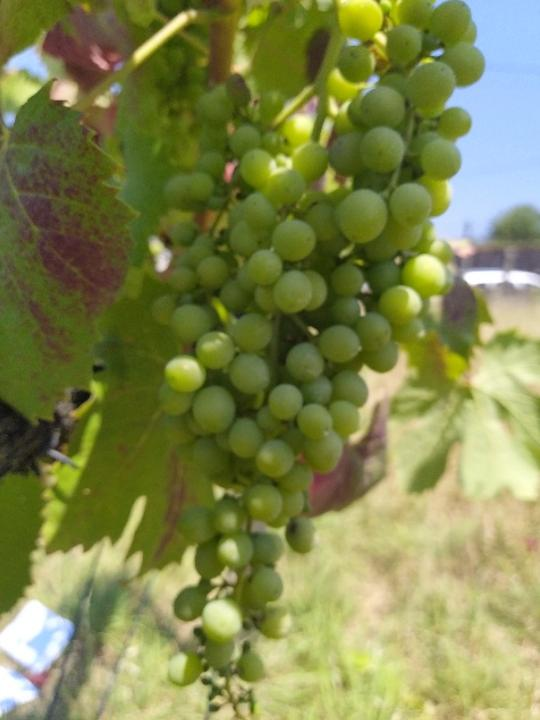grape: (156, 0, 486, 720)
